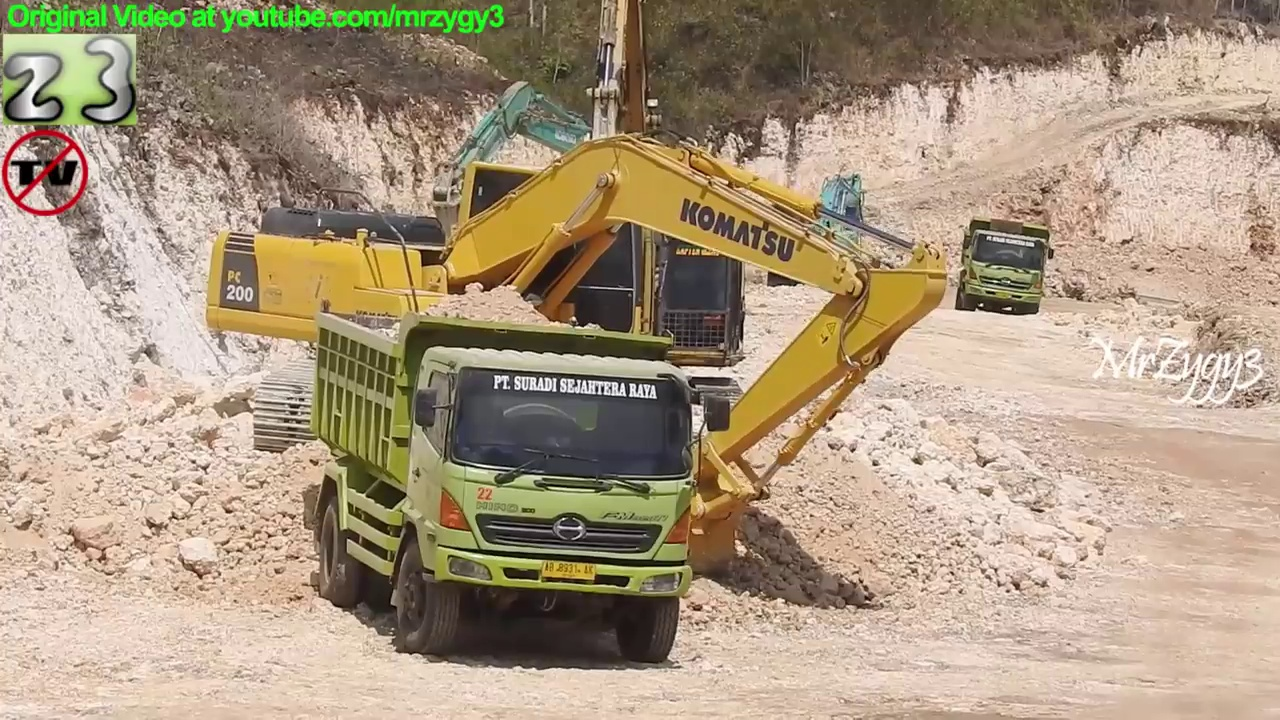excavator: (200, 128, 951, 582), (369, 1, 777, 440), (771, 155, 881, 295)
truck: (309, 305, 737, 667), (953, 213, 1055, 320)
